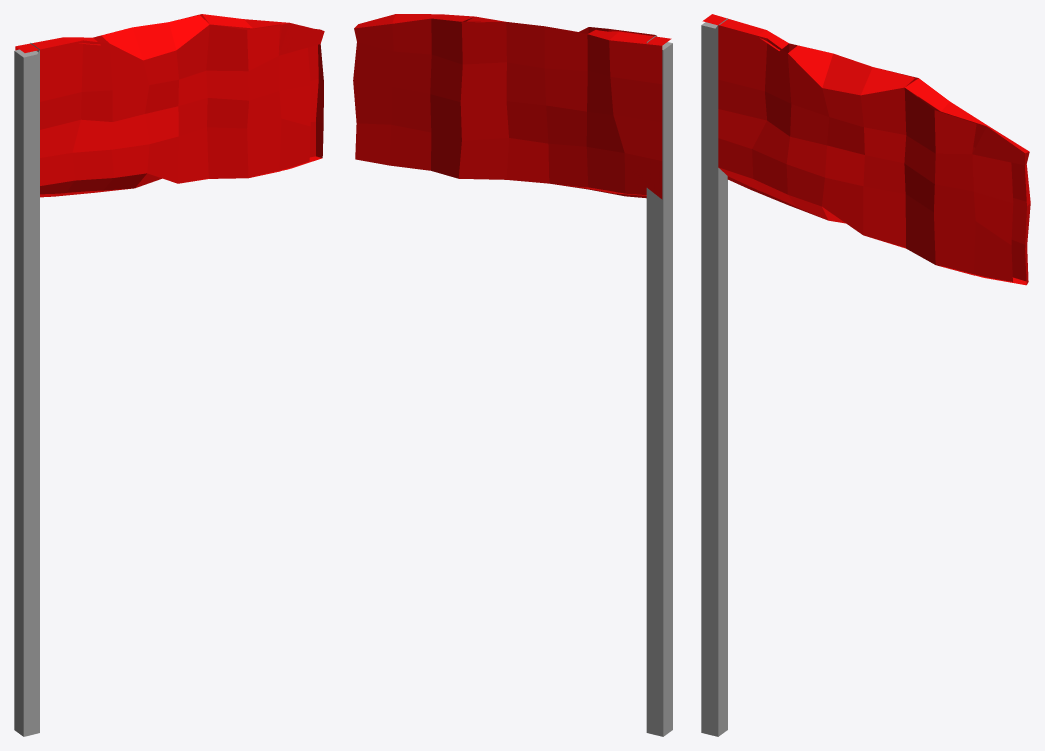
The model's file is startFlagV2.fbx.
3 renders of one model, left to right at view 1: azimuth 30°, elevation 25°; view 2: azimuth 150°, elevation 25°; view 3: azimuth 330°, elevation 25°, orthographic. The views are drawn at different scales.
Visible parts, largest first — view 1: startFlag; view 2: startFlag; view 3: startFlag.
Boxes of the visible parts, left/top/right/bottom form: startFlag: left=14, top=14, right=324, bottom=736; startFlag: left=353, top=14, right=672, bottom=736; startFlag: left=701, top=14, right=1030, bottom=736.
Size of the model in its own units: 49.01 by 104 by 5.61.
